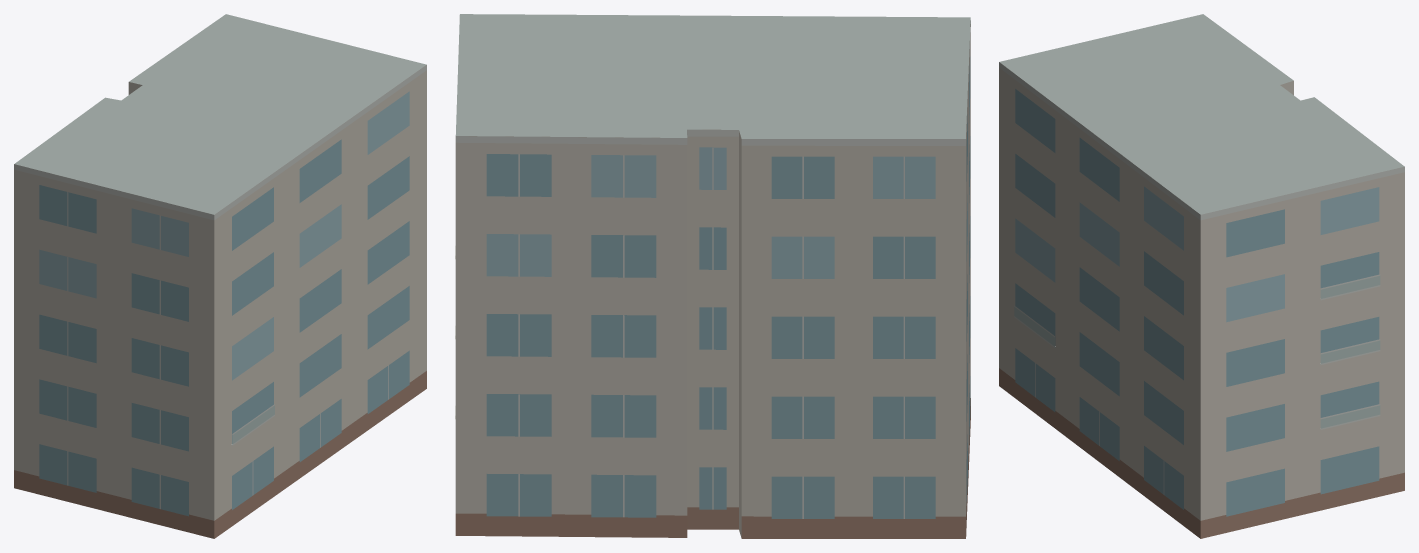
File: survey-upis-32720611.glb
3 renders of one model, left to right at view 1: azimuth 30°, elevation 25°; view 2: azimuth 150°, elevation 25°; view 3: azimuth 270°, elevation 25°, orthographic. The views are drawn at different scales.
Parts seen in each view (by area): view 1: survey-upis-32720611.tmp; view 2: survey-upis-32720611.tmp; view 3: survey-upis-32720611.tmp.
Boxes of the visible parts, box(x1,y1,x2,y2) form: survey-upis-32720611.tmp: box(14, 14, 426, 538); survey-upis-32720611.tmp: box(455, 14, 970, 538); survey-upis-32720611.tmp: box(999, 14, 1404, 538).
Size of the model in its own units: 18.88 by 14.2 by 16.12.
